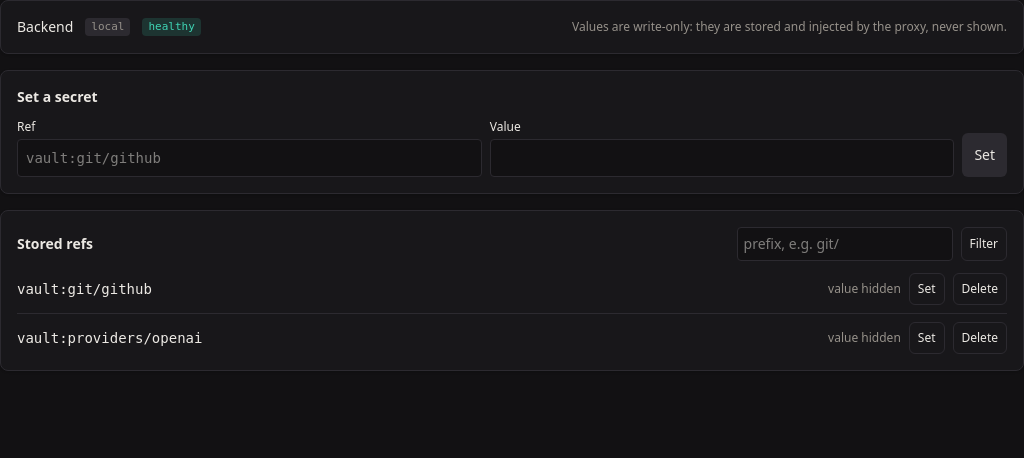
Test: Secrets settings › clears the value even when the save fails, and shows why
Type "vault:x" into the field named "Secret ref".
click(249, 158); type("vault:x")  # box [17,139,482,177]
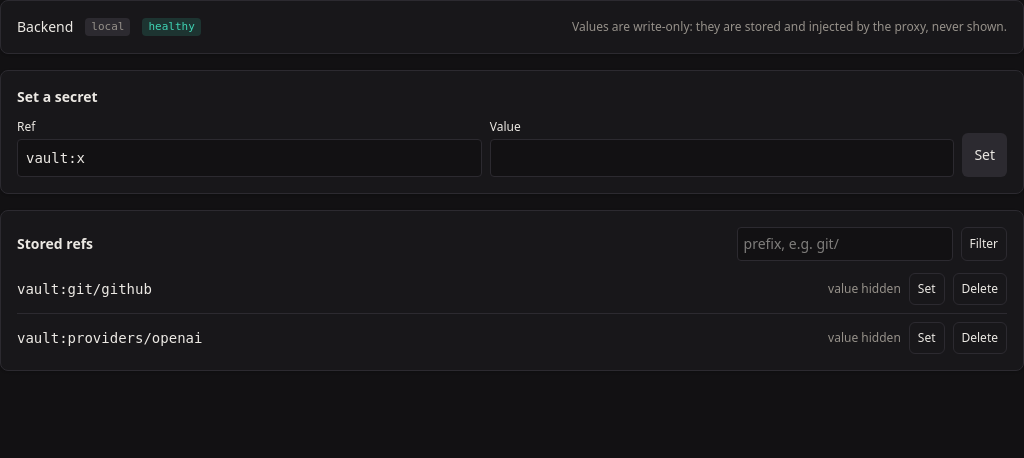
Type "v" into the password field named "Secret value".
click(722, 158); type("v")  # box [490,139,954,177]
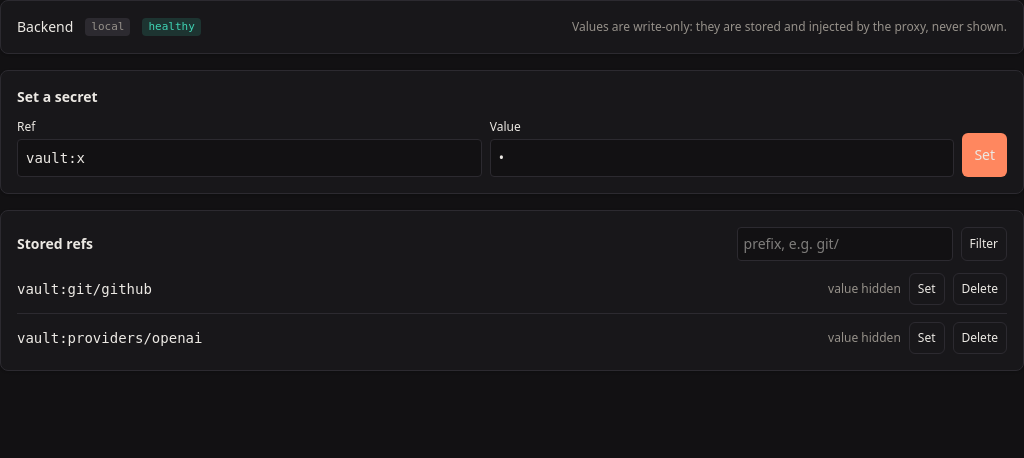
Click the 1st button "Set".
click(985, 155)  # box [962,133,1007,177]
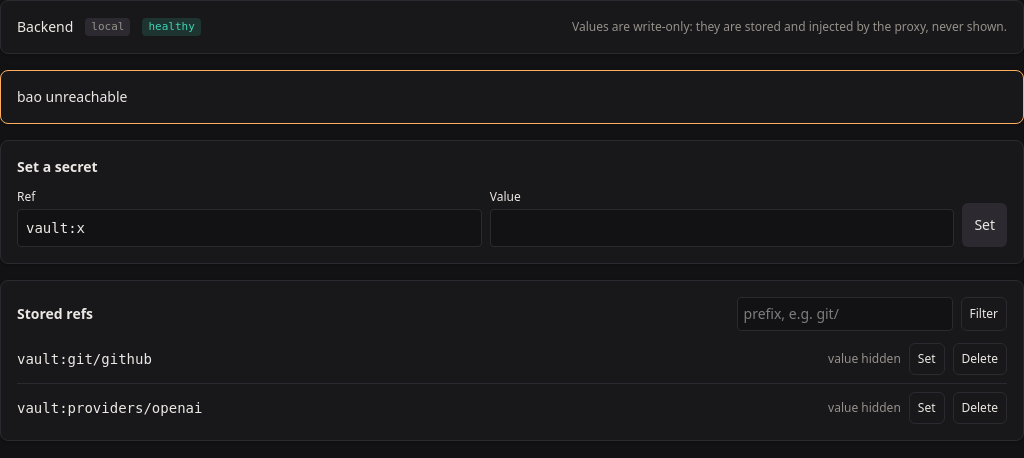
Now the message reads "bao unreachable", box [17,87,128,106]
Now the password field named "Secret value" is empty, box [490,209,954,247]
